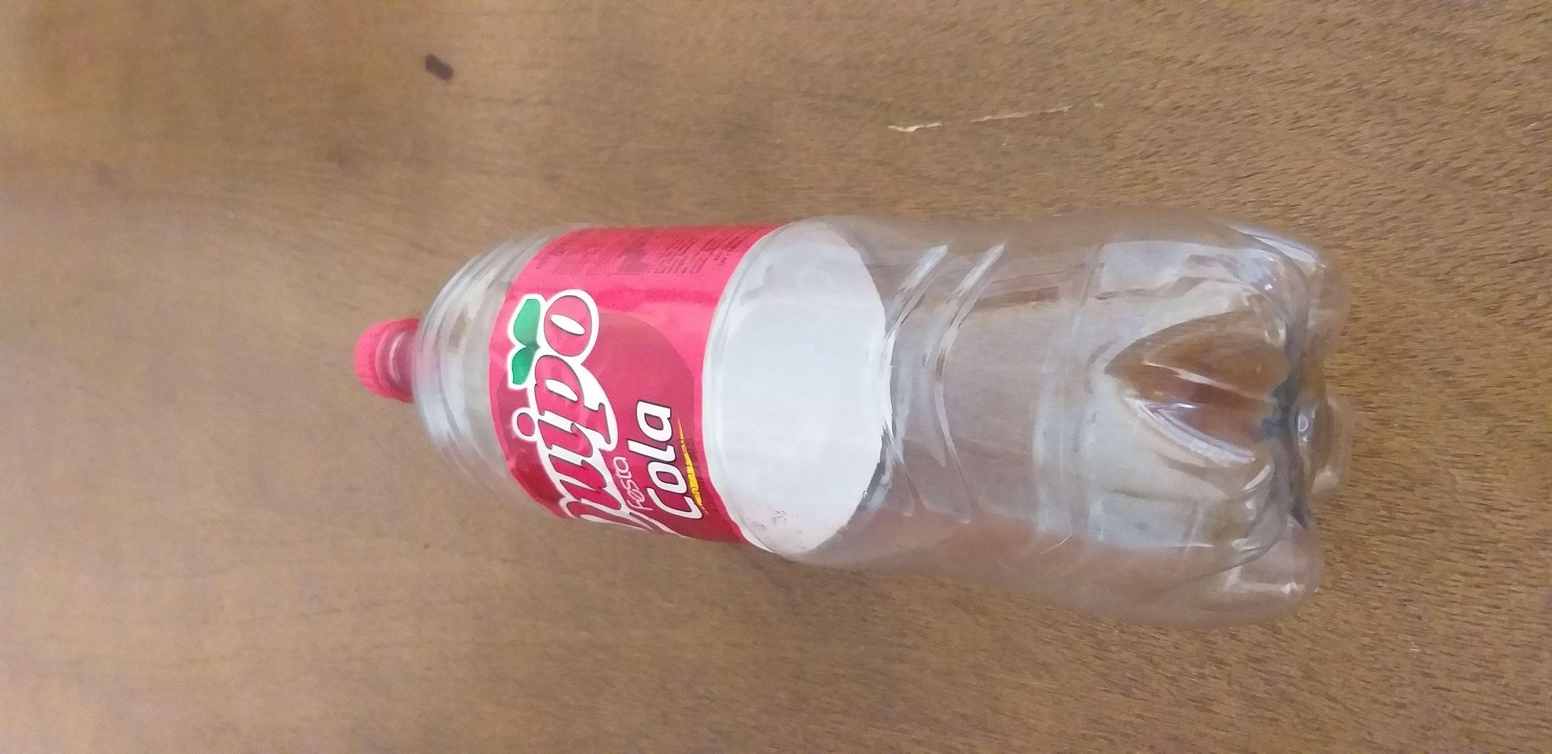bottle-plastic: (349, 212, 1337, 625)
